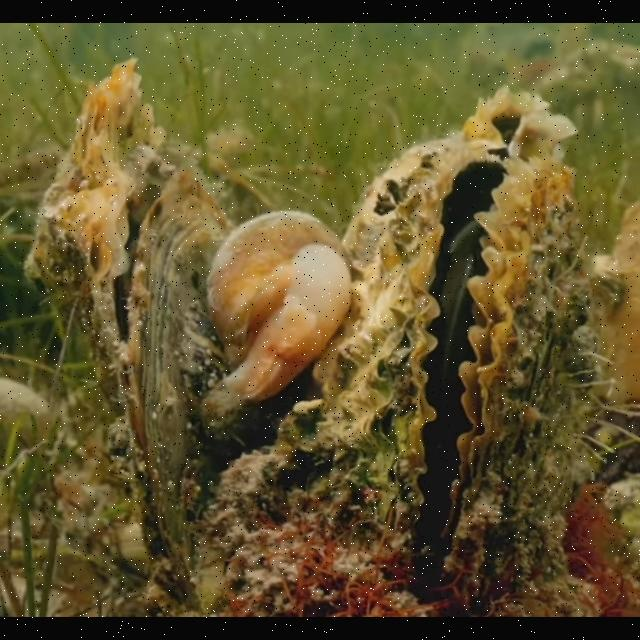Oyster-Open: (308, 92, 602, 606), (22, 55, 234, 603)
